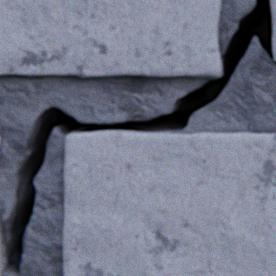brick: (64, 130, 275, 275), (0, 0, 221, 77), (270, 0, 275, 61), (0, 222, 1, 275)
crack: (2, 0, 275, 275)
